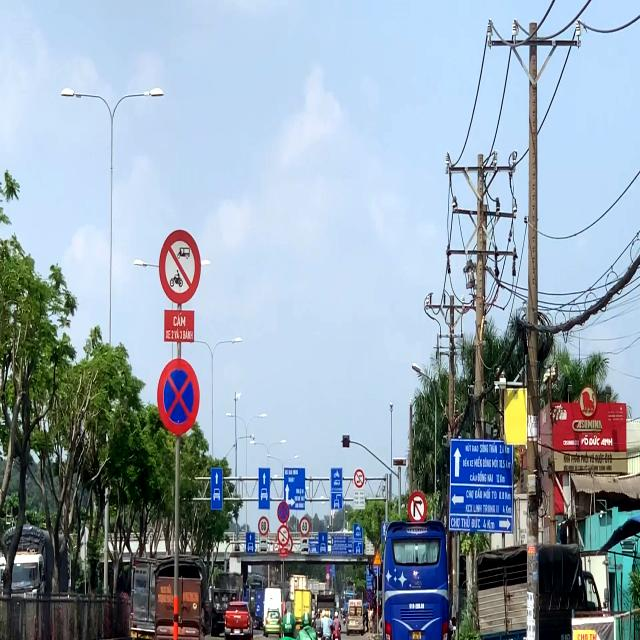P.123b: (408, 491, 426, 526)
P.127: (299, 516, 310, 537), (258, 516, 269, 536)
P.130: (157, 358, 200, 435), (278, 502, 290, 524), (366, 590, 373, 603)
S.509a: (373, 550, 382, 566)
